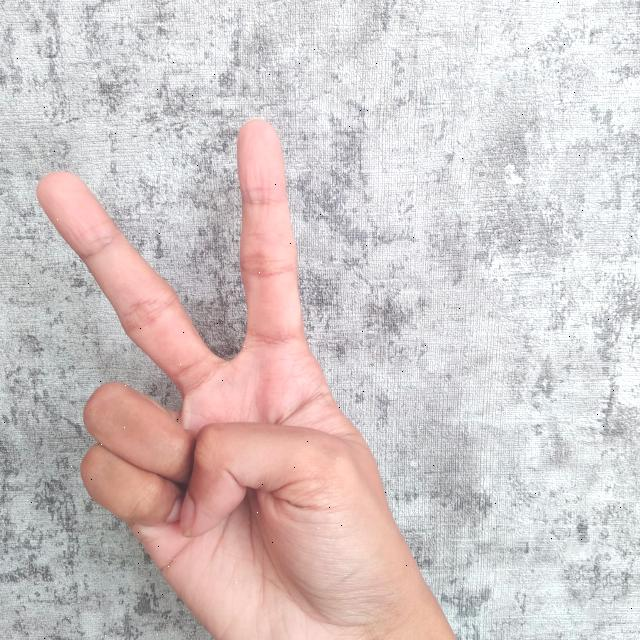V: (32, 111, 461, 640)
